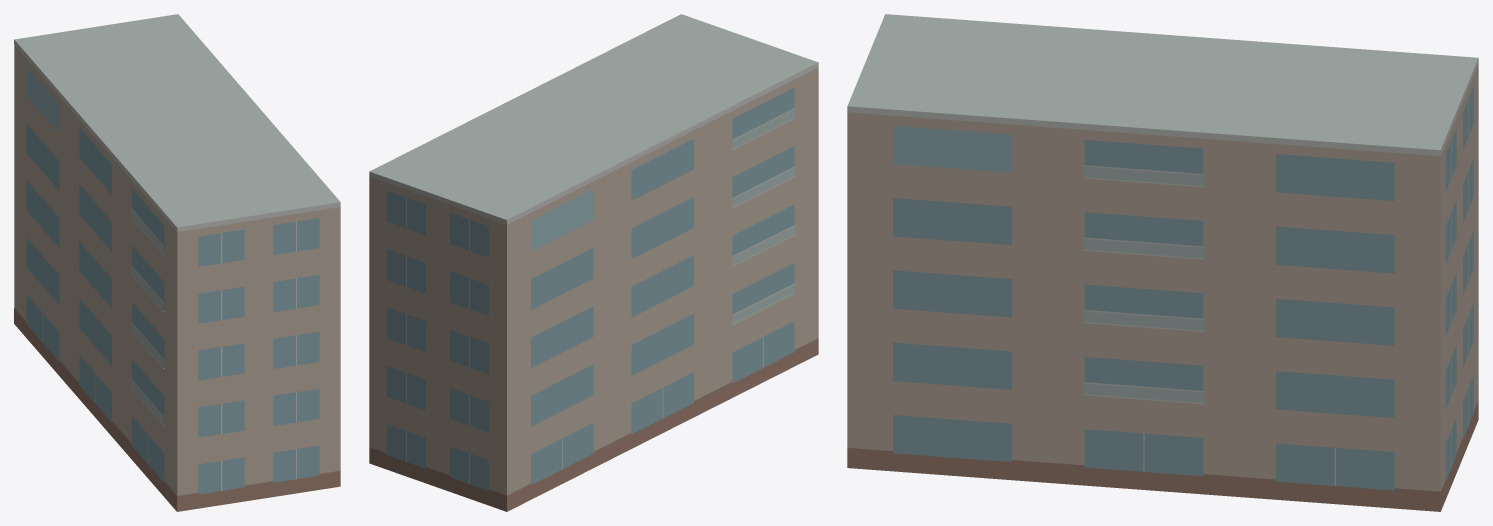
File: survey-upis-32702889.glb
3 renders of one model, left to right at view 1: azimuth 30°, elevation 25°; view 2: azimuth 150°, elevation 25°; view 3: azimuth 270°, elevation 25°, orthographic. The views are drawn at different scales.
Parts seen in each view (by area): view 1: survey-upis-32702889.tmp; view 2: survey-upis-32702889.tmp; view 3: survey-upis-32702889.tmp.
Part boxes in pixels (left/top/right/bottom): survey-upis-32702889.tmp: left=14, top=14, right=340, bottom=511; survey-upis-32702889.tmp: left=369, top=14, right=818, bottom=511; survey-upis-32702889.tmp: left=847, top=14, right=1478, bottom=511.
Bounding box in the file's own units: 11.8 × 14.6 × 23.11.
